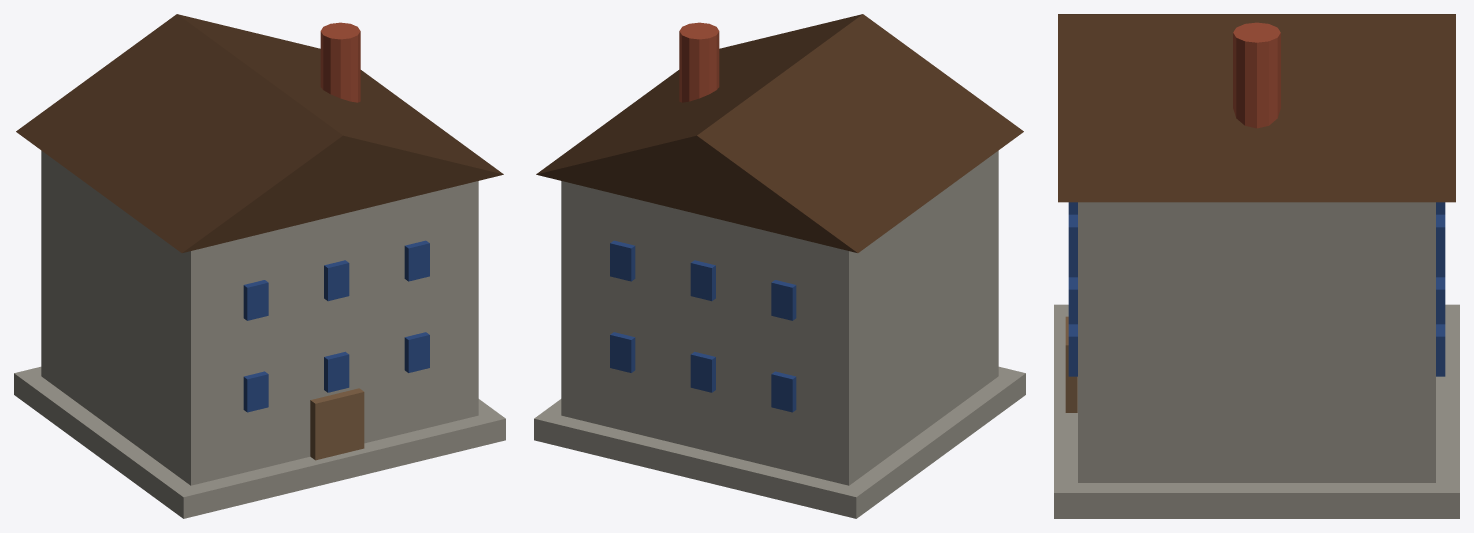
Rendered from bld_residential_a03.glb.
The picture shows the model from 3 angles, left to right: view 1: azimuth 30°, elevation 25°; view 2: azimuth 150°, elevation 25°; view 3: azimuth 270°, elevation 25°; orthographic projection. The views are drawn at different scales.
Visible parts, largest first — view 1: body; view 2: body; view 3: body.
Boxes of the visible parts, <box> form: body: <box>14,14,505,518</box>; body: <box>534,14,1025,518</box>; body: <box>1054,14,1459,518</box>.
Size of what is drawn, in the model's own units: 5.6 by 6.09 by 5.1.
